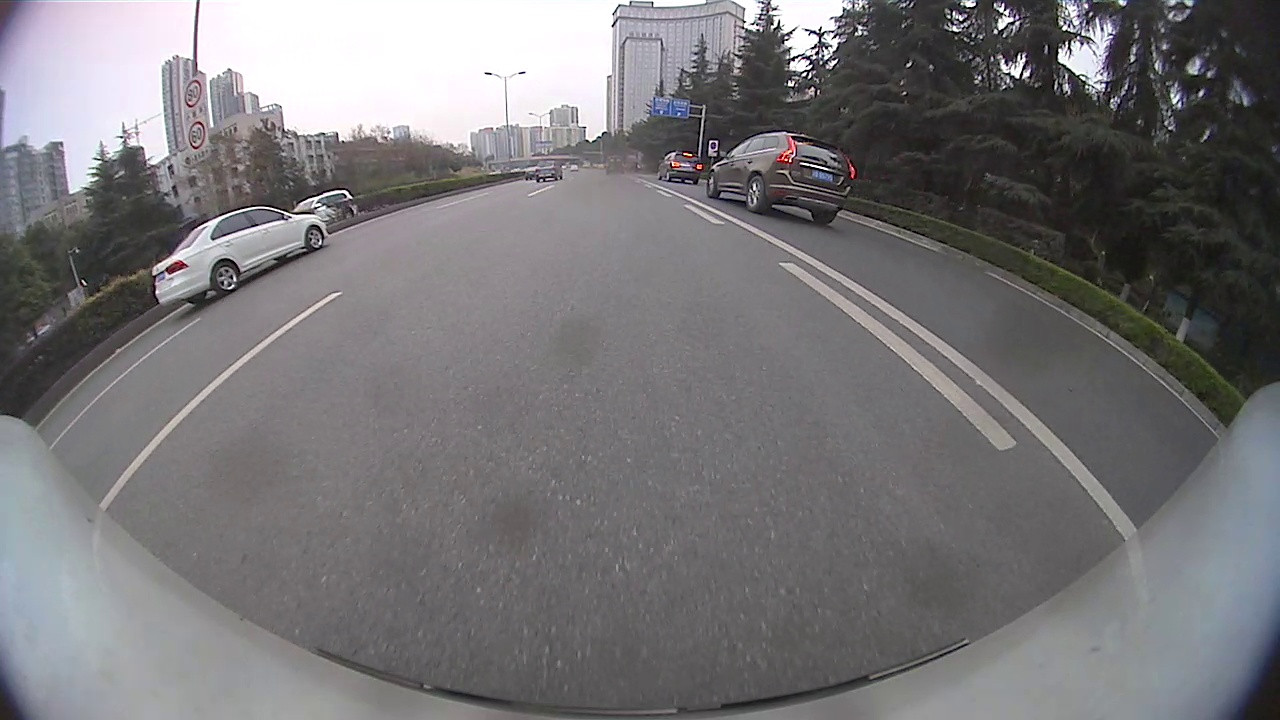car: (144, 204, 329, 307), (705, 128, 858, 226), (289, 189, 359, 220), (656, 150, 701, 185), (534, 158, 563, 182)
front: (307, 230, 325, 250), (706, 173, 721, 197)
rear: (744, 176, 766, 214), (213, 265, 239, 294)
